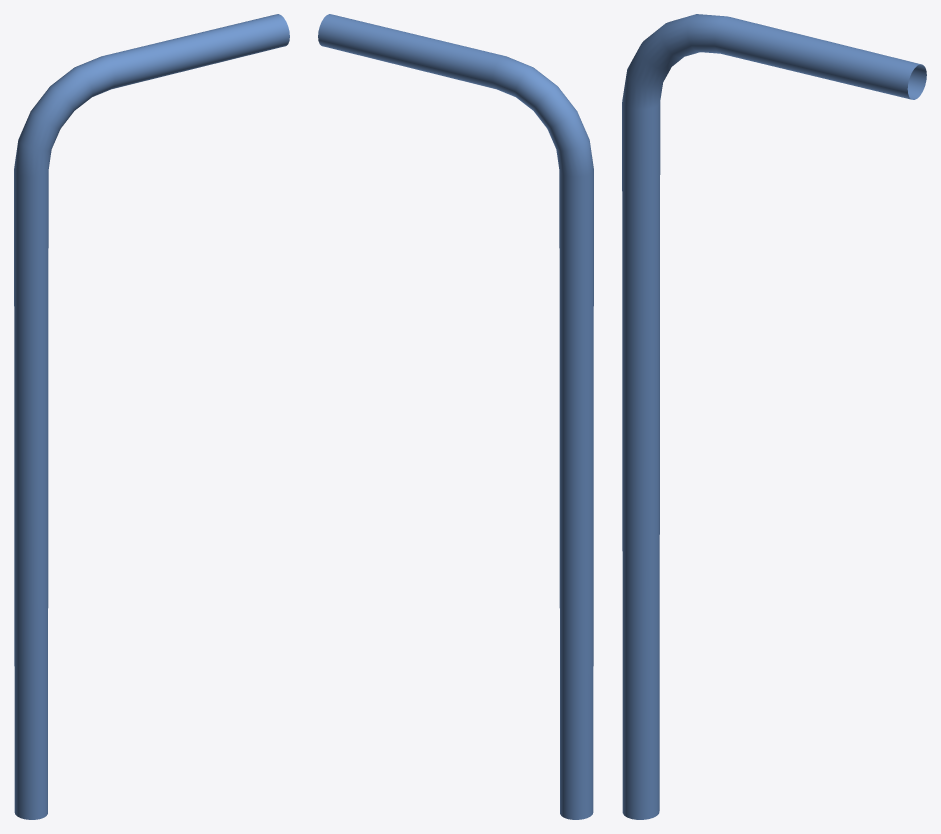
Rendered from Rietje.fbx.
3 renders of one model, left to right at view 1: azimuth 30°, elevation 25°; view 2: azimuth 150°, elevation 25°; view 3: azimuth 330°, elevation 25°, orthographic. The views are drawn at different scales.
Parts seen in each view (by area): view 1: pTorus1; view 2: pTorus1; view 3: pTorus1.
Part boxes in pixels (x1,y1,x2,y2): pTorus1: (14,14,289,819); pTorus1: (318,14,593,819); pTorus1: (622,14,926,819).
Size of the model in its own units: 3.53 by 9.37 by 0.4.
